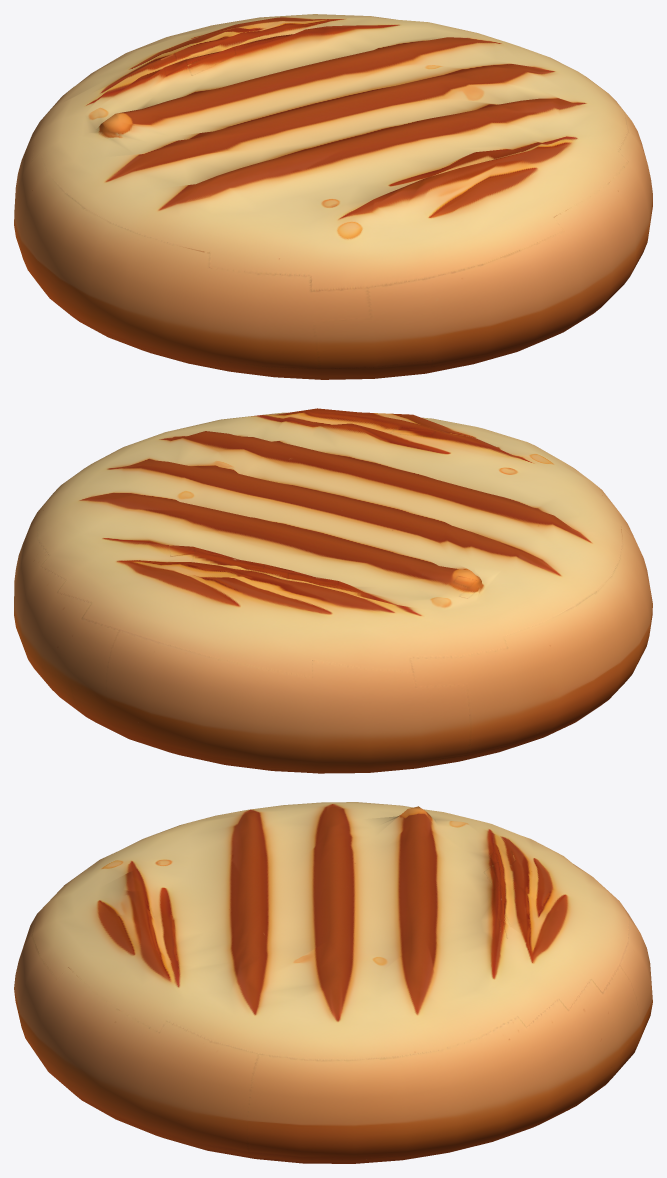
Rendered from Arepa_Bake.fbx.
The picture shows the model from 3 angles, top to bottom: view 1: azimuth 30°, elevation 25°; view 2: azimuth 150°, elevation 25°; view 3: azimuth 270°, elevation 25°; orthographic projection.
Visible parts, largest first — view 1: Retopo_model; view 2: Retopo_model; view 3: Retopo_model.
Boxes of the visible parts, left/top/right/bottom form: Retopo_model: left=14, top=14, right=652, bottom=379; Retopo_model: left=14, top=408, right=652, bottom=773; Retopo_model: left=14, top=802, right=652, bottom=1163.
Bounding box in the file's own units: 189 × 53.28 × 190.
Materials: 1 (1 with a texture image).
